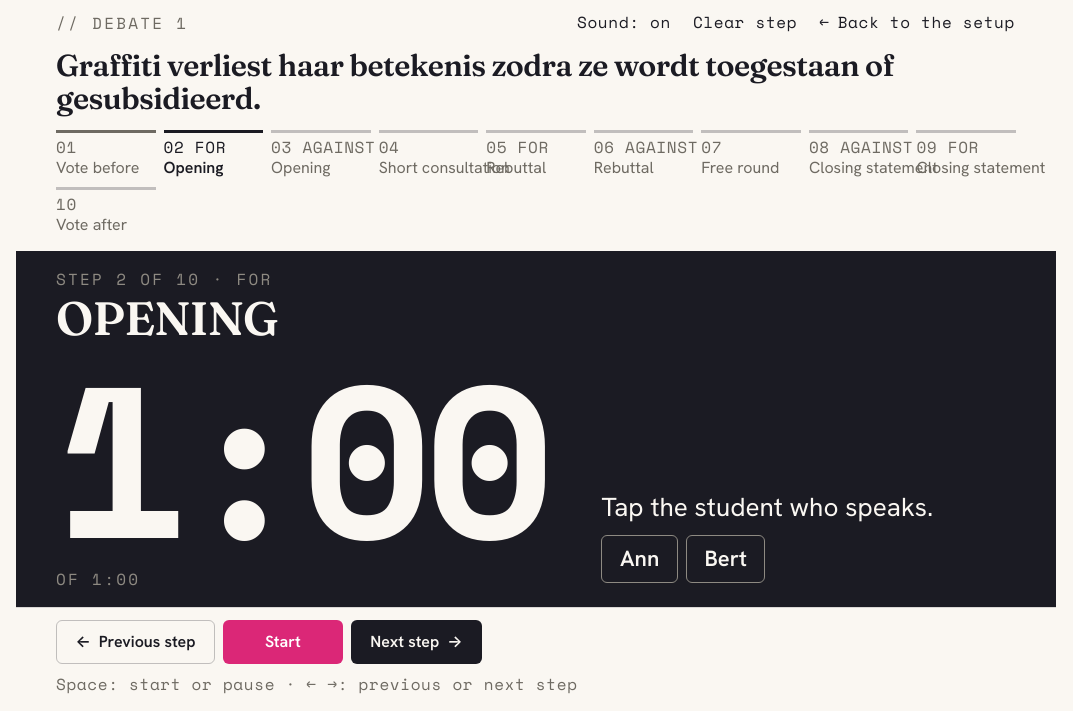
it: the debate screen › gives the floor to the student tapped, and records who spoke
Expected: the text "Tap the student who speaks." is shown, [602,490,933,524]
Step 1. Click the button "Ann" → (640, 559), box [602,535,678,583]
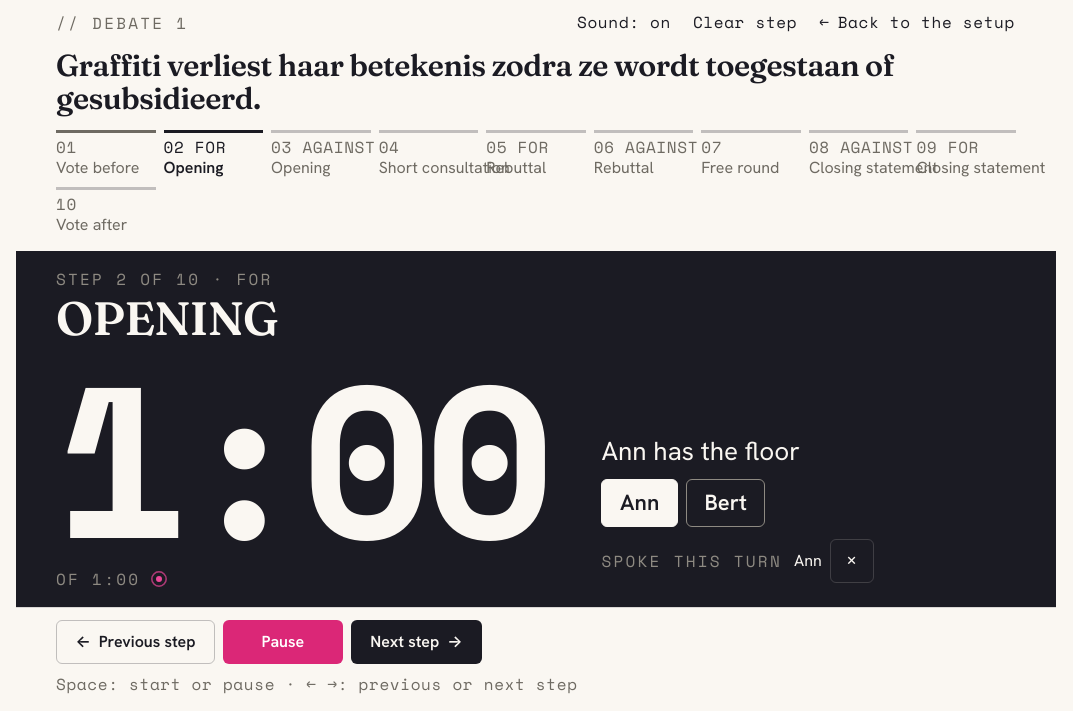
Now the text "Ann has the floor" is shown, box [602,434,800,468]
Now the button "Pause" is shown, box [223,620,343,664]
Step 2. Click the button "Bert" → (726, 503), box [686,479,765,527]
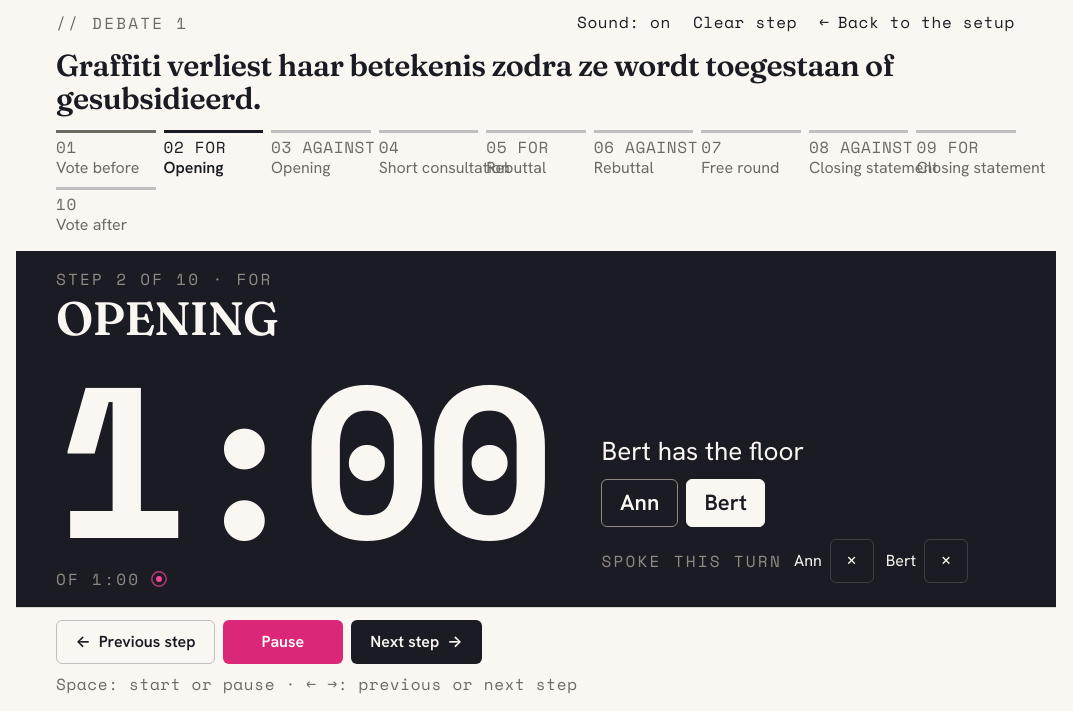
Now the text "Spoke this turn" is shown, box [602,549,782,573]
Step 3. Click the button named "Remove Bert from the speakers" → (946, 561), box [924,539,968,583]
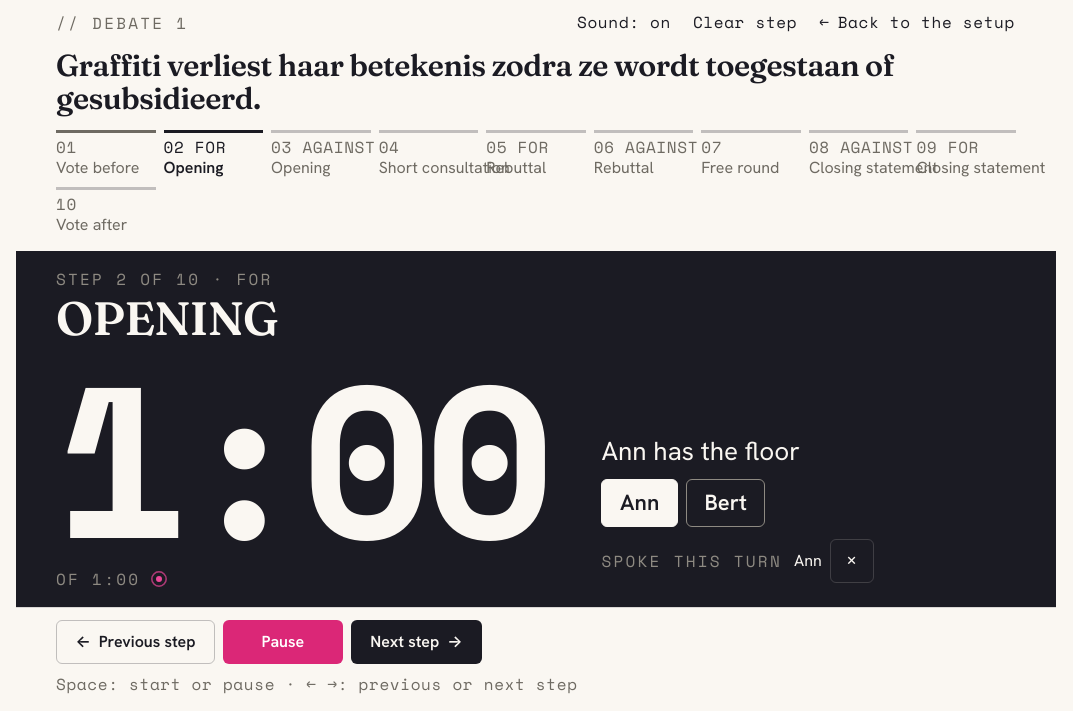
Now the text "Ann has the floor" is shown, box [602,434,800,468]
